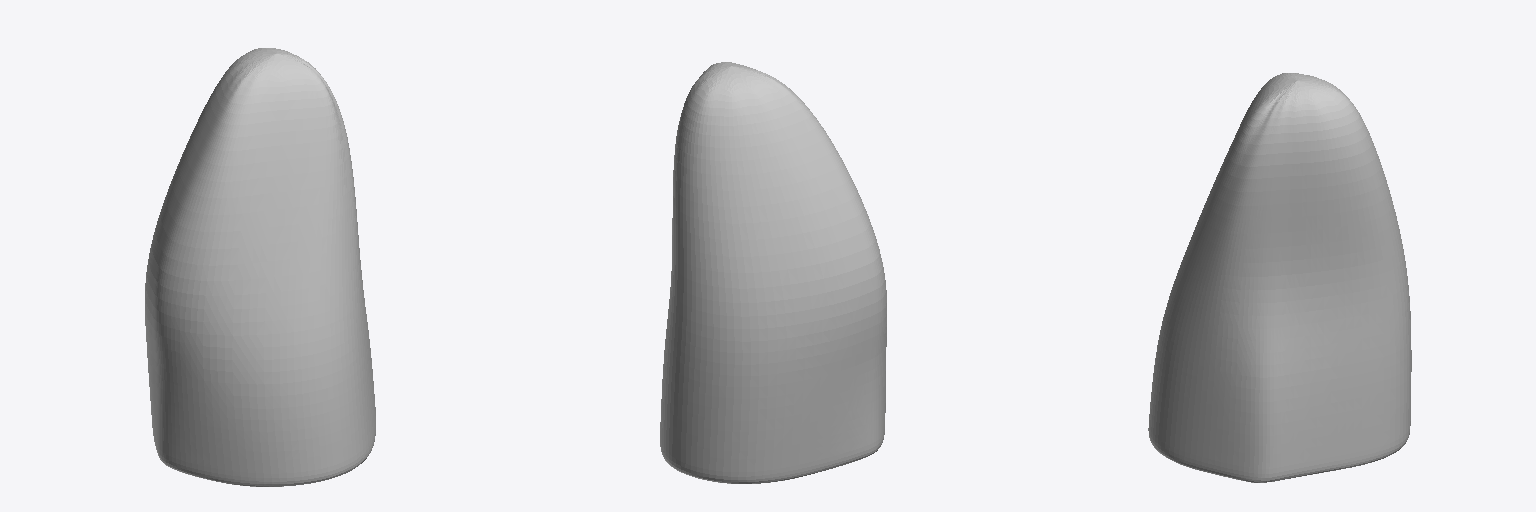
File: Corte Trans 2.obj
3 views of the same model, side by side, from view 1: azimuth 30°, elevation 25°; view 2: azimuth 150°, elevation 25°; view 3: azimuth 270°, elevation 25° (orthographic).
Parts seen in each view (by area): view 1: Cylinder; view 2: Cylinder; view 3: Cylinder.
Boxes of the visible parts, box(x1,y1,x2,y2) form: Cylinder: box(145, 48, 375, 486); Cylinder: box(660, 62, 886, 483); Cylinder: box(1148, 73, 1411, 482).
Size of the model in its own units: 1.1 by 1.89 by 1.19.